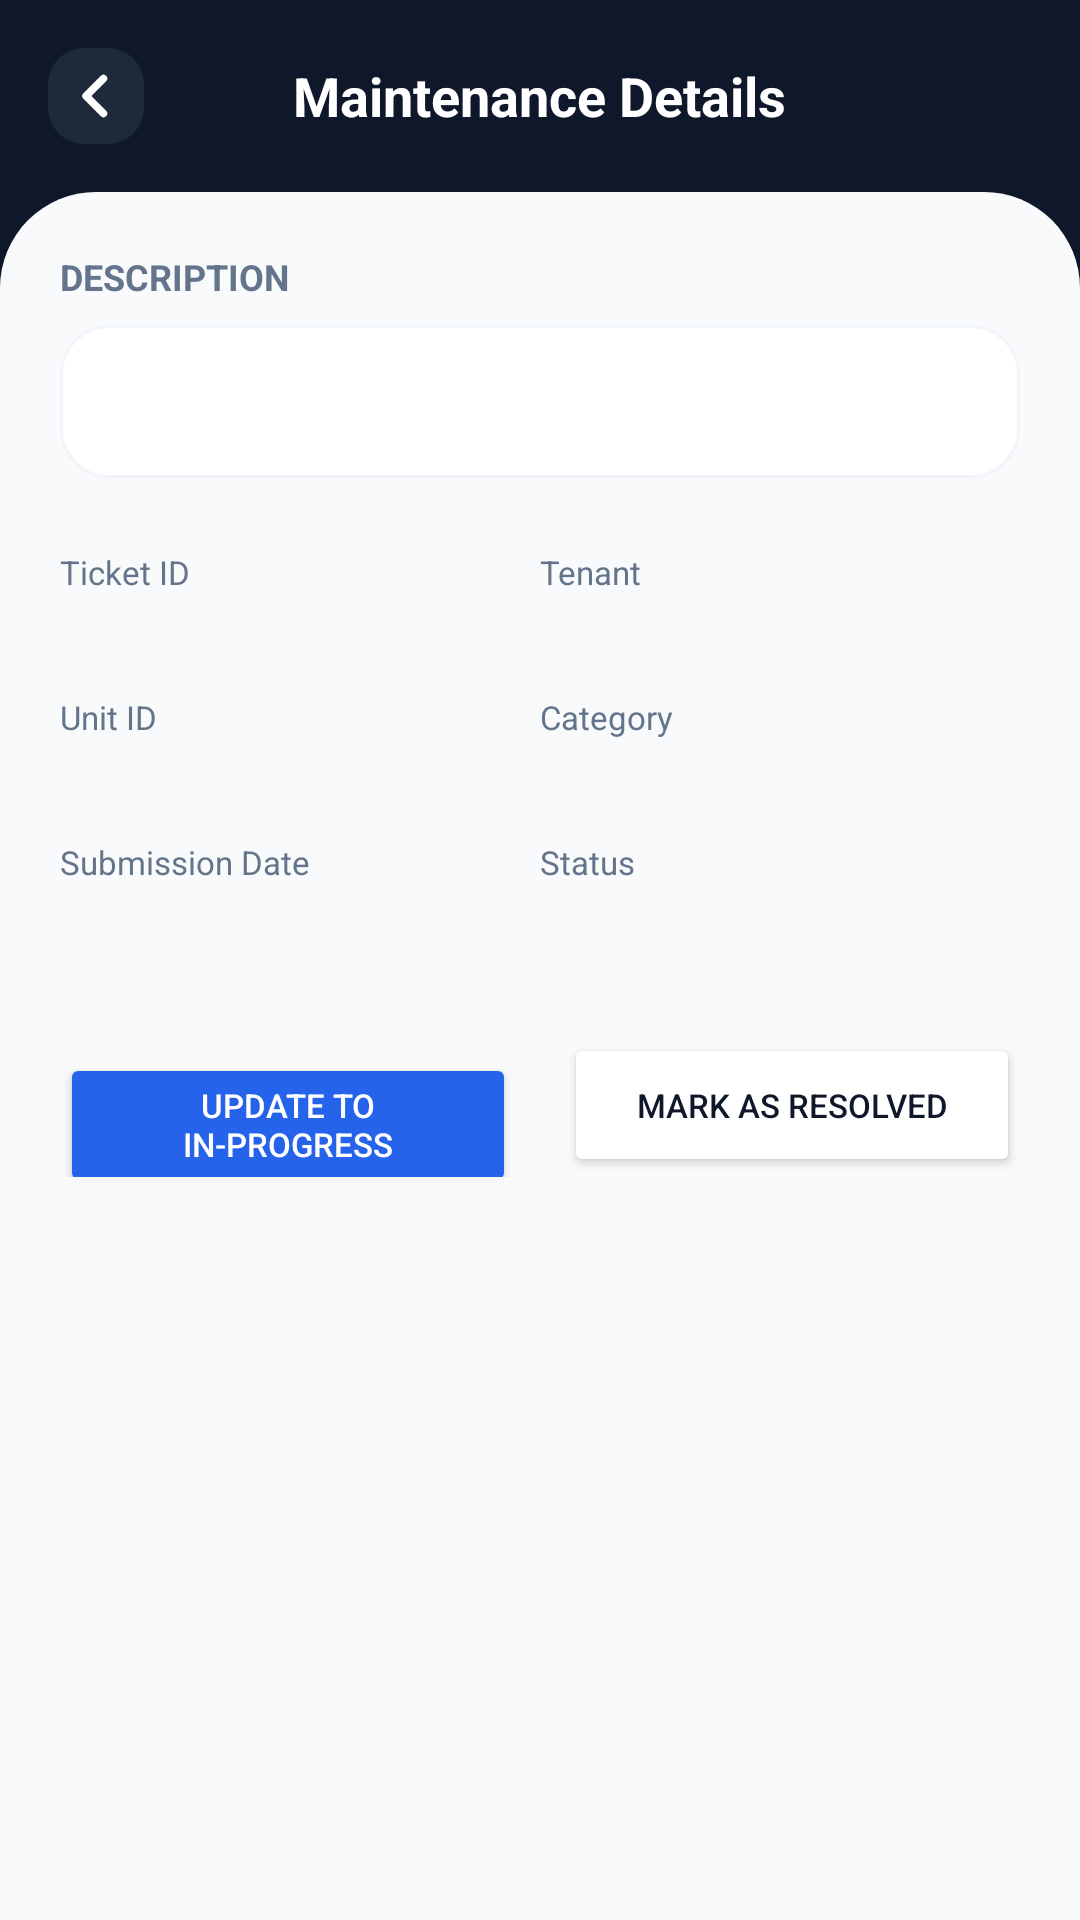

Point at icon controls on the screen. Image size 1080×1920, points as [x,y].
chevron left: [96,96]
